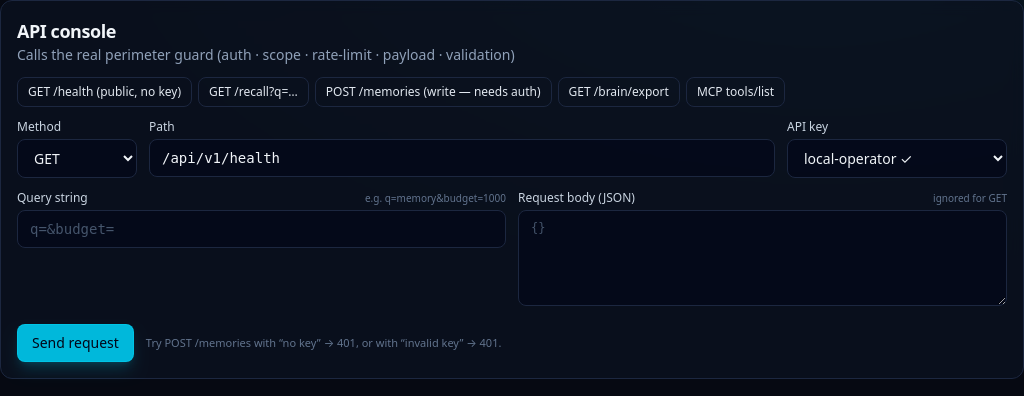
Test: Console › applies request presets
Step 1. Click the button "POST /memories (write — needs auth)" → (433, 92), box left=315, top=77, right=552, bottom=107
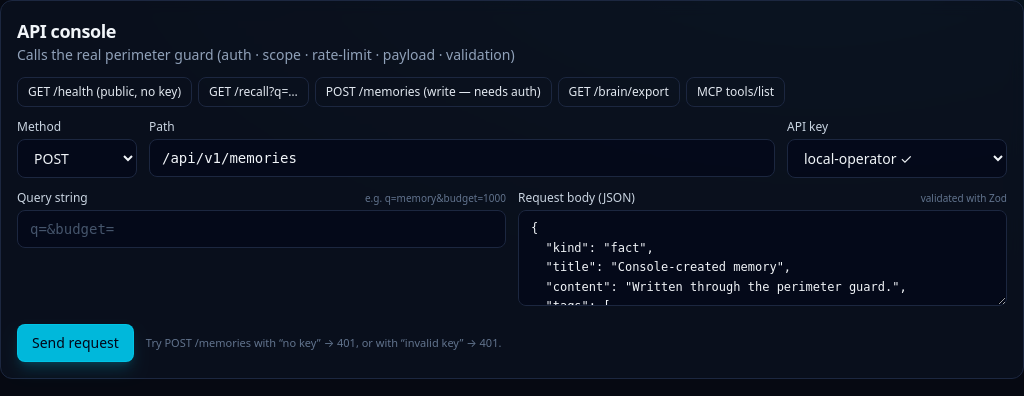
Expected: the dropdown labelled "Method" shows "POST", left=17, top=139, right=137, bottom=178
Expected: the field labelled "Path" holds "/api/v1/memories", left=149, top=139, right=775, bottom=177
